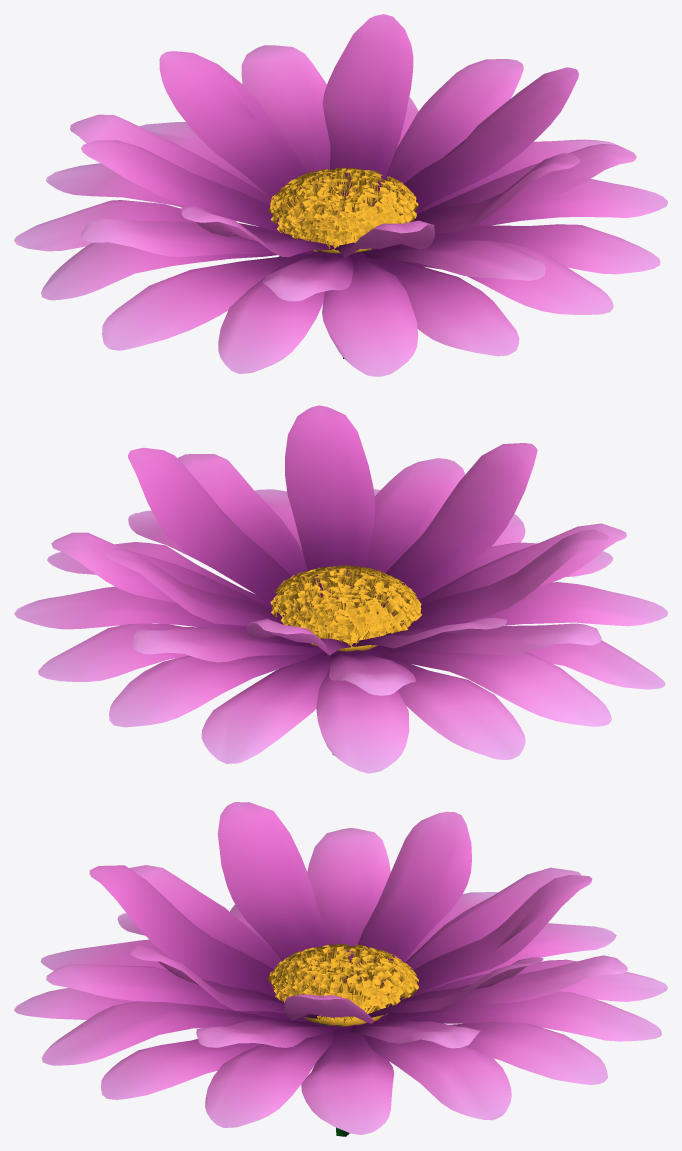
3 renders of one model, top to bottom at view 1: azimuth 30°, elevation 25°; view 2: azimuth 150°, elevation 25°; view 3: azimuth 270°, elevation 25°, orthographic.
Visible parts, largest first — view 1: flover.032; view 2: flover.032; view 3: flover.032.
Boxes of the visible parts, x1,y1,x2,y2 form: flover.032: (14, 14, 667, 376); flover.032: (14, 405, 667, 773); flover.032: (14, 802, 667, 1136).
Bounding box in the file's own units: 0.5 × 0.2036 × 0.4998.
3 materials, 1 textured.
